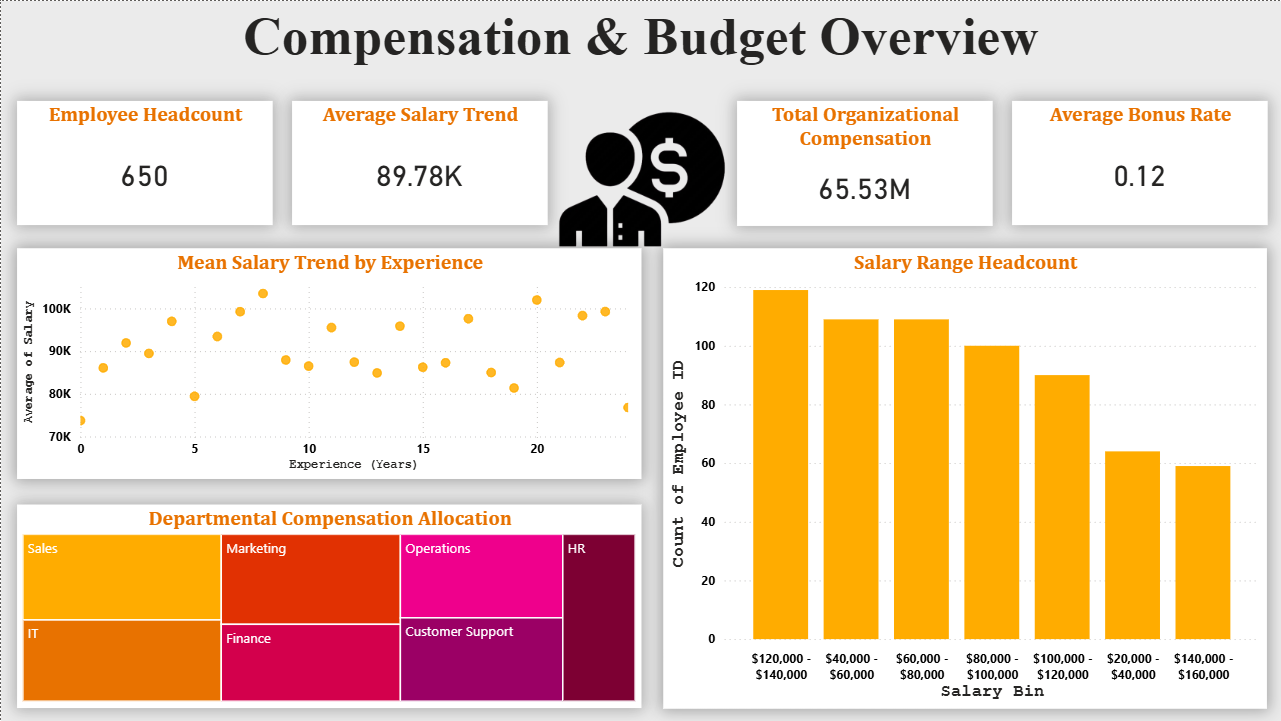

This screenshot's page, from the dashboard's own definition file:
{"tool":"powerbi","page":{"name":"Page 1","canvas":[1280,720],"ordinal":0},"visuals":[{"type":"textbox","box":[0,0,1280,76.2],"z":0},{"type":"card","title":"Employee Headcount","fields":{"Values":["CountNonNull(Sheet1.Employee ID)"]},"box":[16.2,100,255,123.8],"z":1000},{"type":"card","title":"Average  Salary Trend","fields":{"Values":["Avg(Sheet1.Salary)"]},"box":[291.2,100,255,123.8],"z":2000},{"type":"card","title":"Total Organizational Compensation","fields":{"Values":["Sum(Sheet1.Total Compensation)"]},"box":[736.2,100,255,125],"z":3000},{"type":"card","title":"Average Bonus Rate","fields":{"Values":["Sheet1.Average Bonus Percentage"]},"box":[1011.2,100,255,123.8],"z":4000},{"type":"clusteredColumnChart","title":"Salary Range Headcount","fields":{"Category":["Sheet1.Salary Bin"],"Y":["CountNonNull(Sheet1.Employee ID)"]},"box":[662.9,247.1,602.9,460],"z":5000},{"type":"treemap","title":"Departmental Compensation Allocation","fields":{"Values":["Sum(Sheet1.Total Compensation)"],"Group":["Sheet1.Department"]},"box":[15.7,504.3,624.3,202.9],"z":6000},{"type":"scatterChart","title":"Mean Salary Trend by Experience","fields":{"X":["Sheet1.Experience (Years)"],"Y":["Avg(Sheet1.Salary)"]},"box":[15.7,247.1,624.3,230],"z":7000}]}

Visuals, with their boxes in screenshot pixels (x1, y1, x2, y2), scaled from the page's 1280x720 canvas onto the 1281x721 screenshot:
textbox: x1=0, y1=0, x2=1280, y2=76
"Employee Headcount" card: x1=16, y1=100, x2=271, y2=224
"Average  Salary Trend" card: x1=291, y1=100, x2=547, y2=224
"Total Organizational Compensation" card: x1=737, y1=100, x2=992, y2=225
"Average Bonus Rate" card: x1=1012, y1=100, x2=1267, y2=224
"Salary Range Headcount" clusteredColumnChart: x1=663, y1=247, x2=1267, y2=708
"Departmental Compensation Allocation" treemap: x1=16, y1=505, x2=640, y2=708
"Mean Salary Trend by Experience" scatterChart: x1=16, y1=247, x2=640, y2=478
